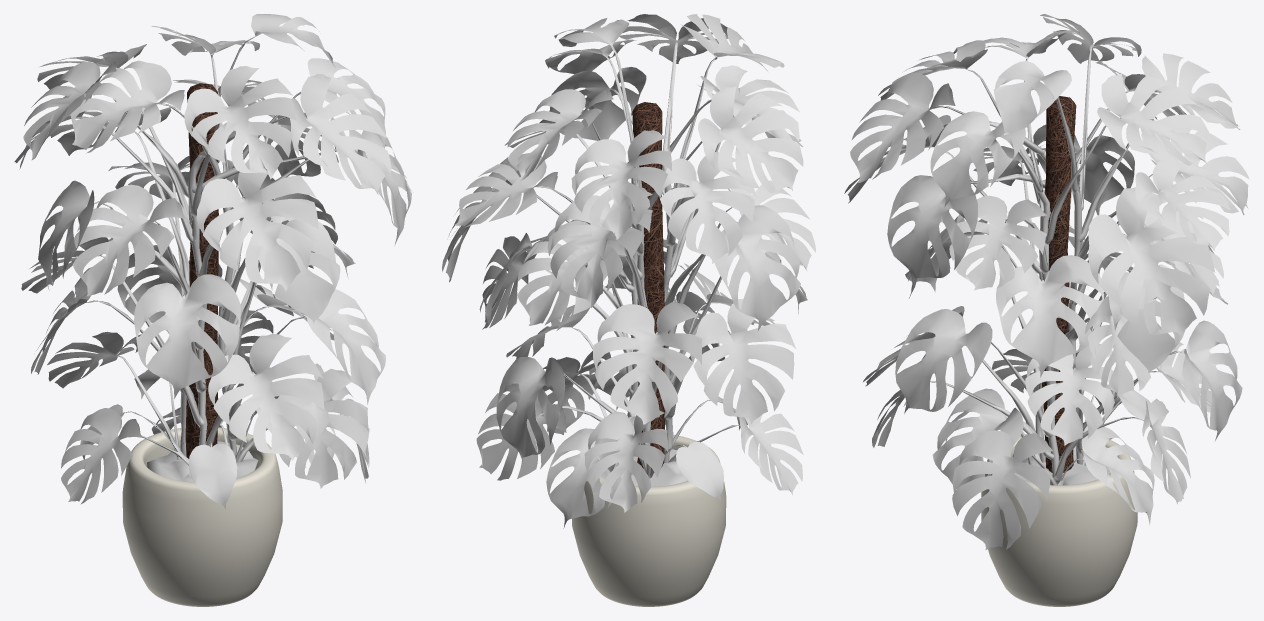
File: PlantVase.fbx
3 renders of one model, left to right at view 1: azimuth 30°, elevation 25°; view 2: azimuth 150°, elevation 25°; view 3: azimuth 270°, elevation 25°, orthographic. The views are drawn at different scales.
Visible parts, largest first — view 1: PlantVase; view 2: PlantVase; view 3: PlantVase.
Part boxes in pixels (left/top/right/bottom): PlantVase: left=14, top=14, right=413, bottom=606; PlantVase: left=442, top=14, right=815, bottom=606; PlantVase: left=844, top=14, right=1249, bottom=606.
Bounding box in the file's own units: 68.74 × 110 × 73.93.
